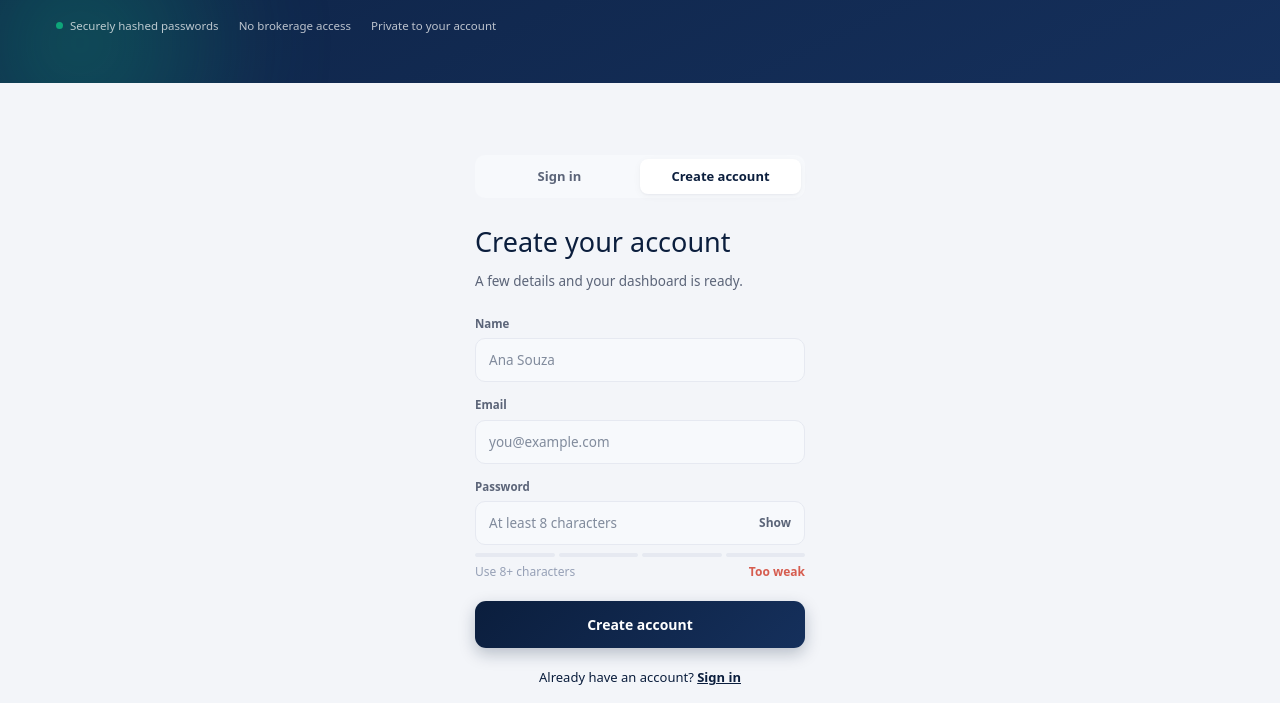
it: AuthScreen (signup mode) › ApiError(400) shows "Check your details and try again." in the form alert
(page scrolled)
In the field labelled "Name": [640, 360] box [475,338,805,382], type "Ana"
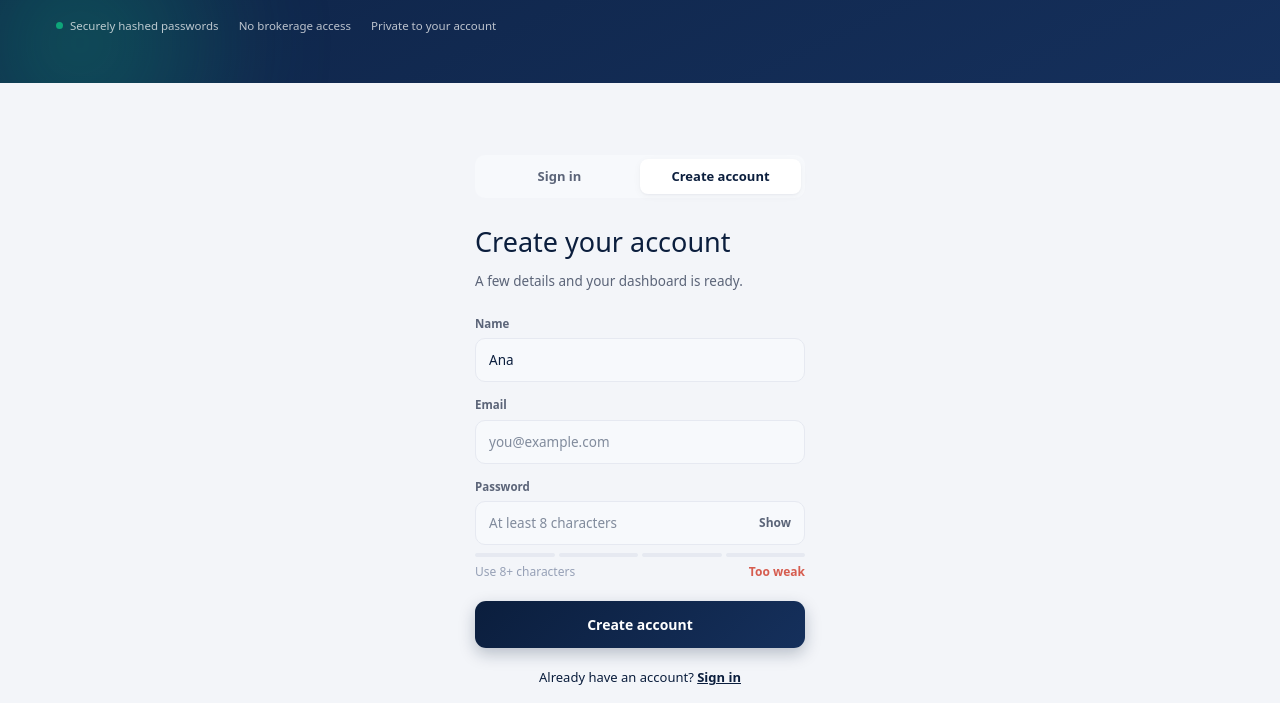
In the field labelled "Email": [640, 442] box [475,420,805,464], type "ana@example.com"
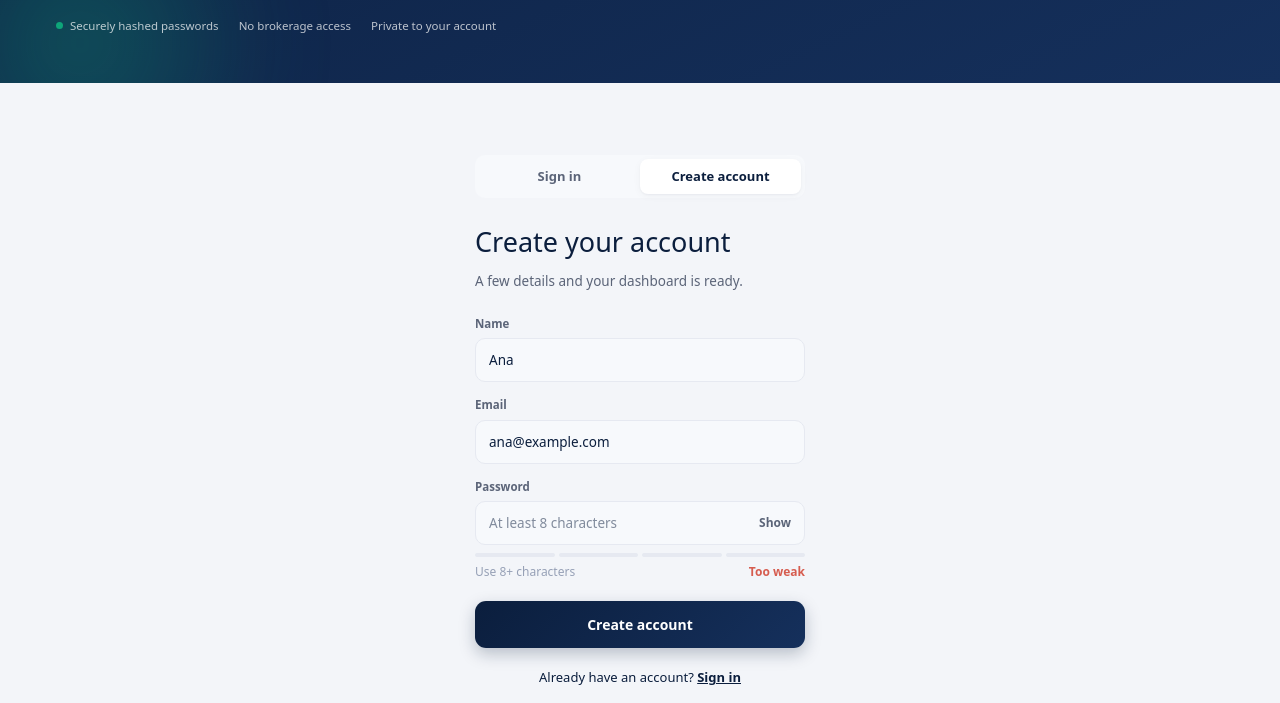
In the password field labelled "Password": [640, 523] box [475,501,805,545], type "abcdefgh"
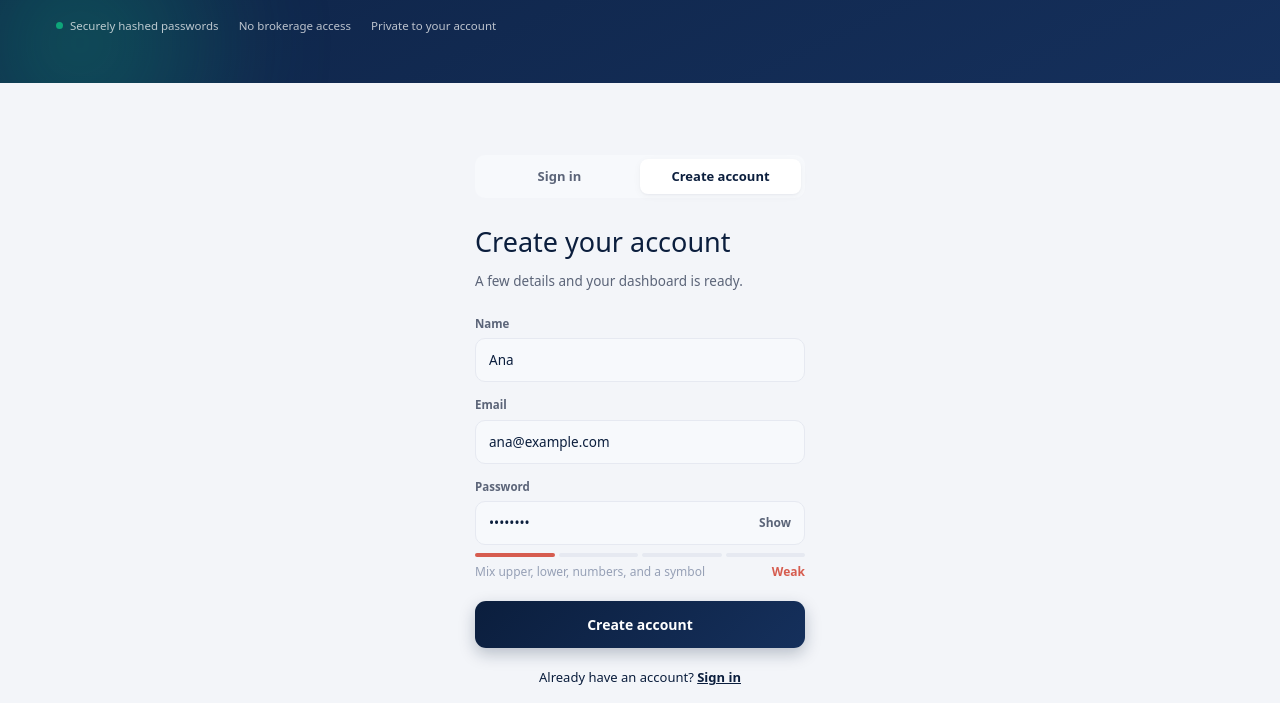
Click the button "Create account" below "Mix upper, lower, numbers, and a symbol": [640, 625] box [475,601,805,648]
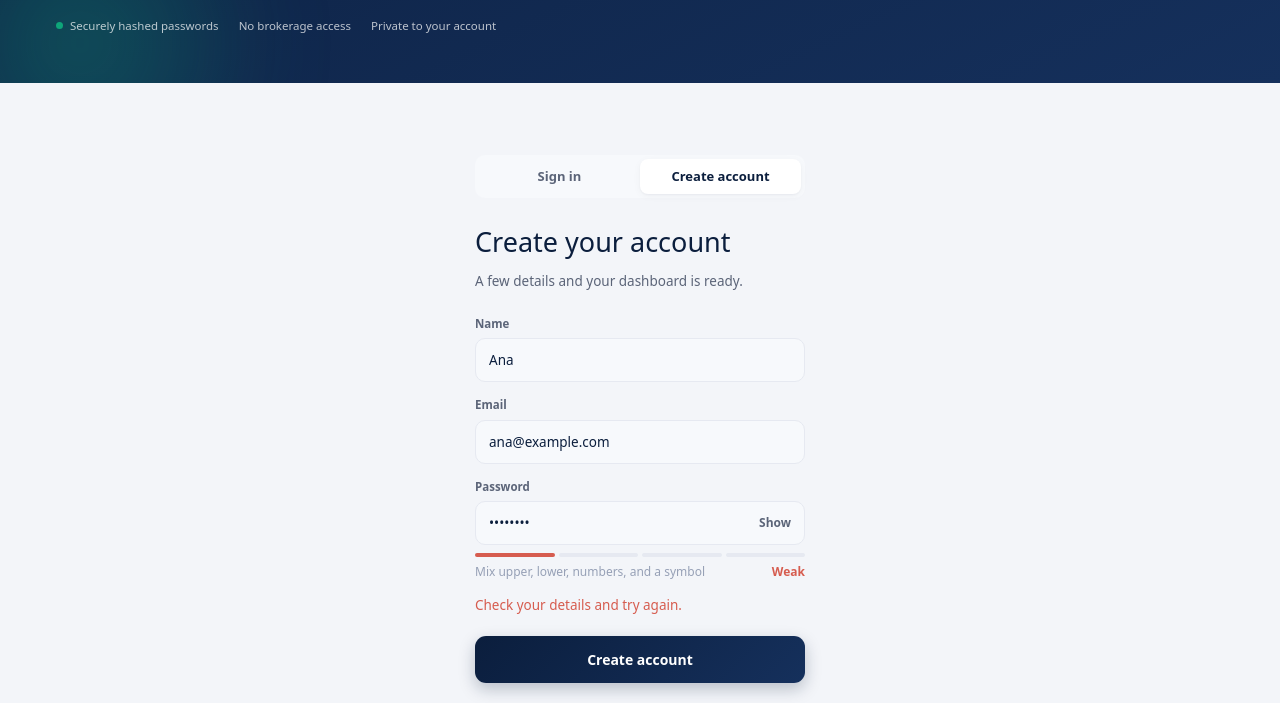
Expected: the message reads "Check your details and try again.", [475,596,682,614]
